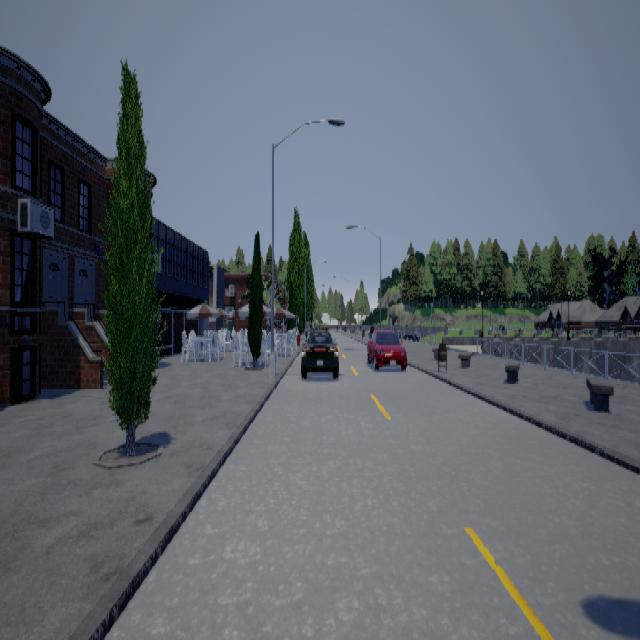vehicle: (302, 327, 340, 377), (368, 328, 408, 369)
